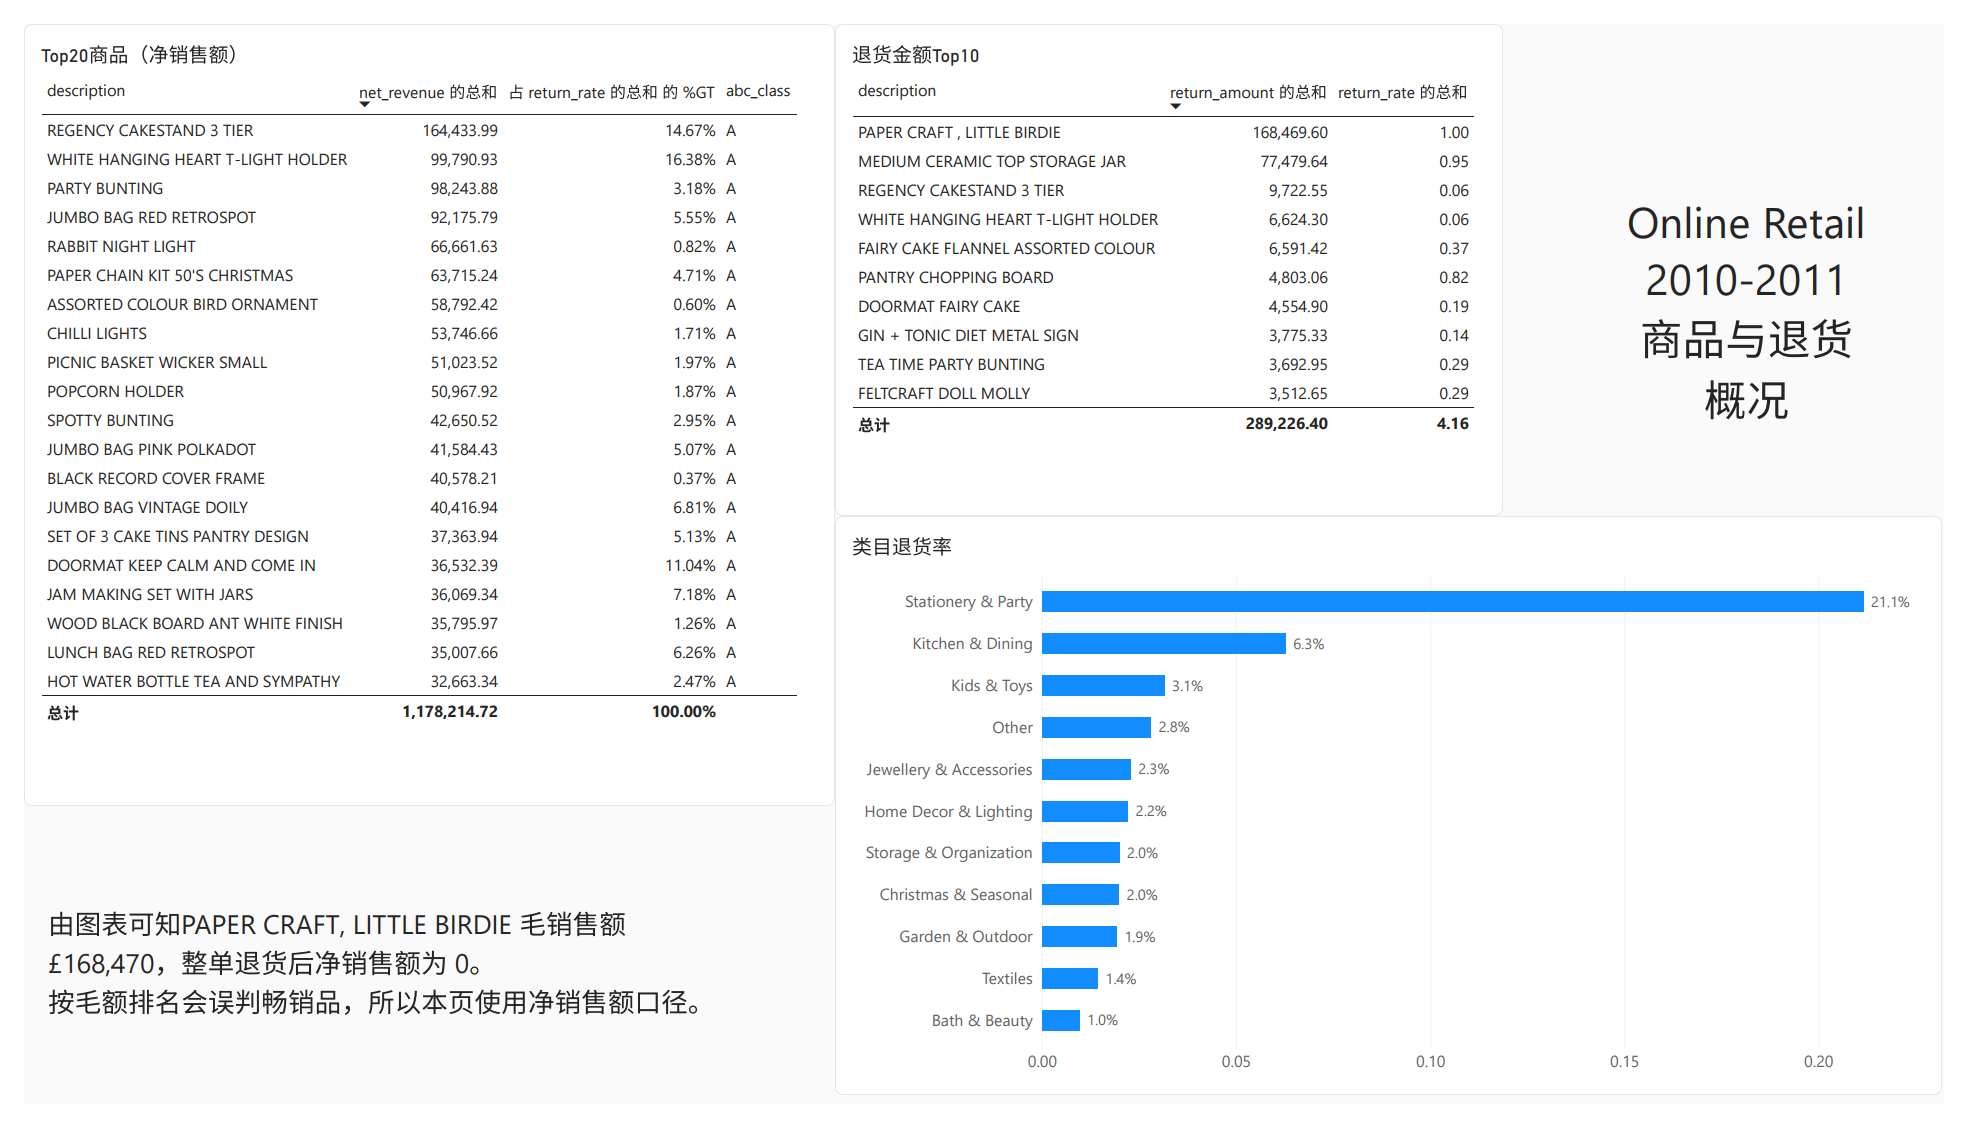

The page's visual inventory and layout, read from the dashboard file:
{"tool":"powerbi","page":{"name":"第 2 页","canvas":[1920,1080],"ordinal":1},"visuals":[{"type":"textbox","box":[1586.8,92.1,271.1,347.4],"z":0},{"type":"tableEx","title":"Top20商品（净销售额）","fields":{"Values":["Top商品.description","Sum(Top商品.net_revenue)","Sum(Top商品.return_rate)","Top商品.abc_class"]},"box":[0,0,810.5,781.6],"z":1},{"type":"tableEx","title":"退货金额Top10","fields":{"Values":["Top退货.description","Sum(Top退货.return_amount)","Sum(Top退货.return_rate)"]},"box":[810.5,0,668.4,492.1],"z":2},{"type":"clusteredBarChart","title":"类目退货率","fields":{"Category":["类目.category"],"Y":["Sum(类目.return_rate)"]},"box":[810.5,492.1,1107.9,578.9],"z":3},{"type":"textbox","box":[23.7,878.9,697.4,126.3],"z":4}]}

Visuals, with their boxes in screenshot pixels (x1, y1, x2, y2), scaled from the page's 1920x1080 canvas onto the 1968x1128 screenshot:
textbox: {"x1": 1626, "y1": 96, "x2": 1904, "y2": 459}
"Top20商品（净销售额）" tableEx: {"x1": 0, "y1": 0, "x2": 831, "y2": 816}
"退货金额Top10" tableEx: {"x1": 831, "y1": 0, "x2": 1516, "y2": 514}
"类目退货率" clusteredBarChart: {"x1": 831, "y1": 514, "x2": 1966, "y2": 1119}
textbox: {"x1": 24, "y1": 918, "x2": 739, "y2": 1050}
